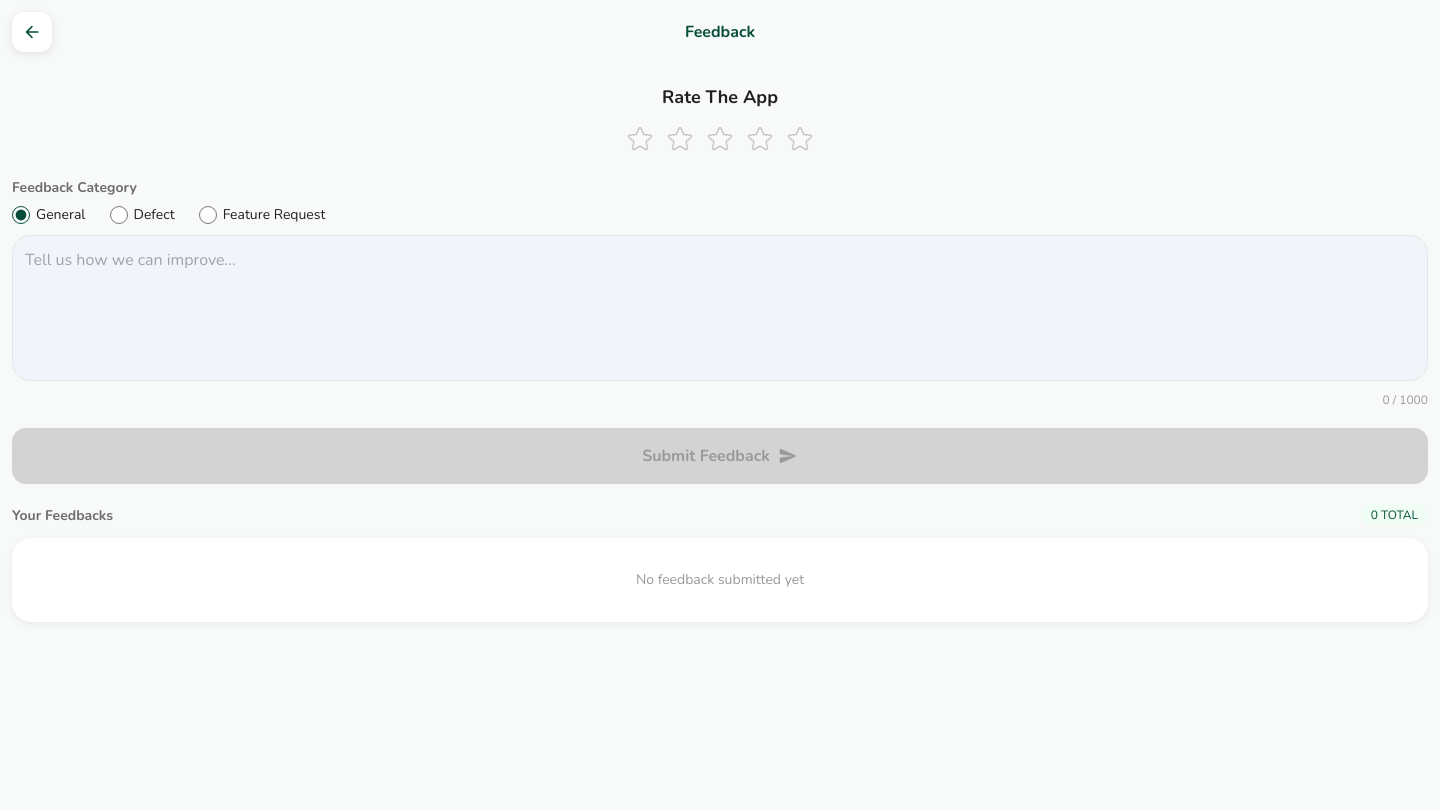
it: Feedback — successful submit › shows a success snackbar, clears the form, and reloads history
Click the radio button labelled "Feature Request".
click(208, 214)  # box [199,206,217,224]
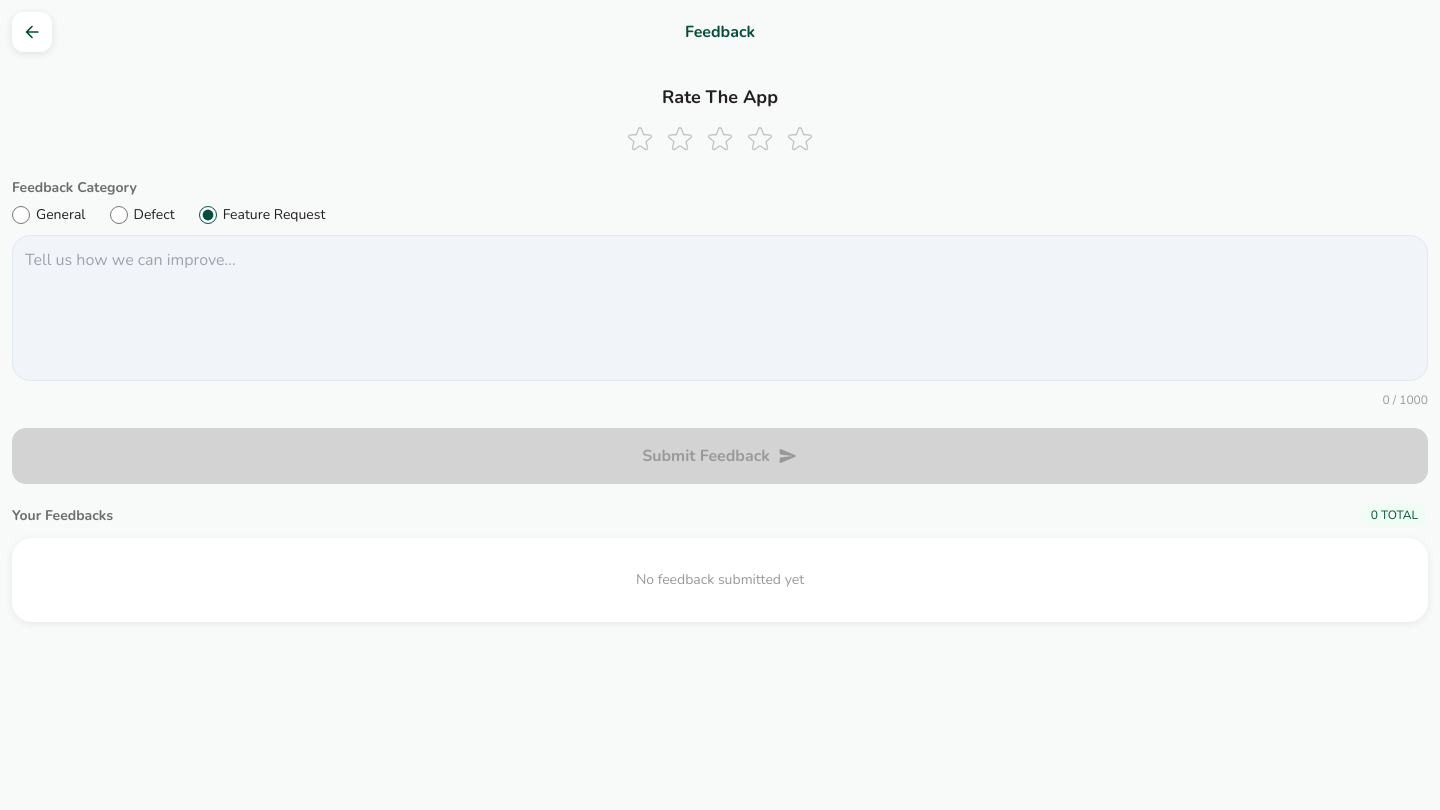
Type "Loved it" into the text box with placeholder "Tell us how we can improve...".
click(720, 308); type("Loved it")  # box [12,235,1428,381]
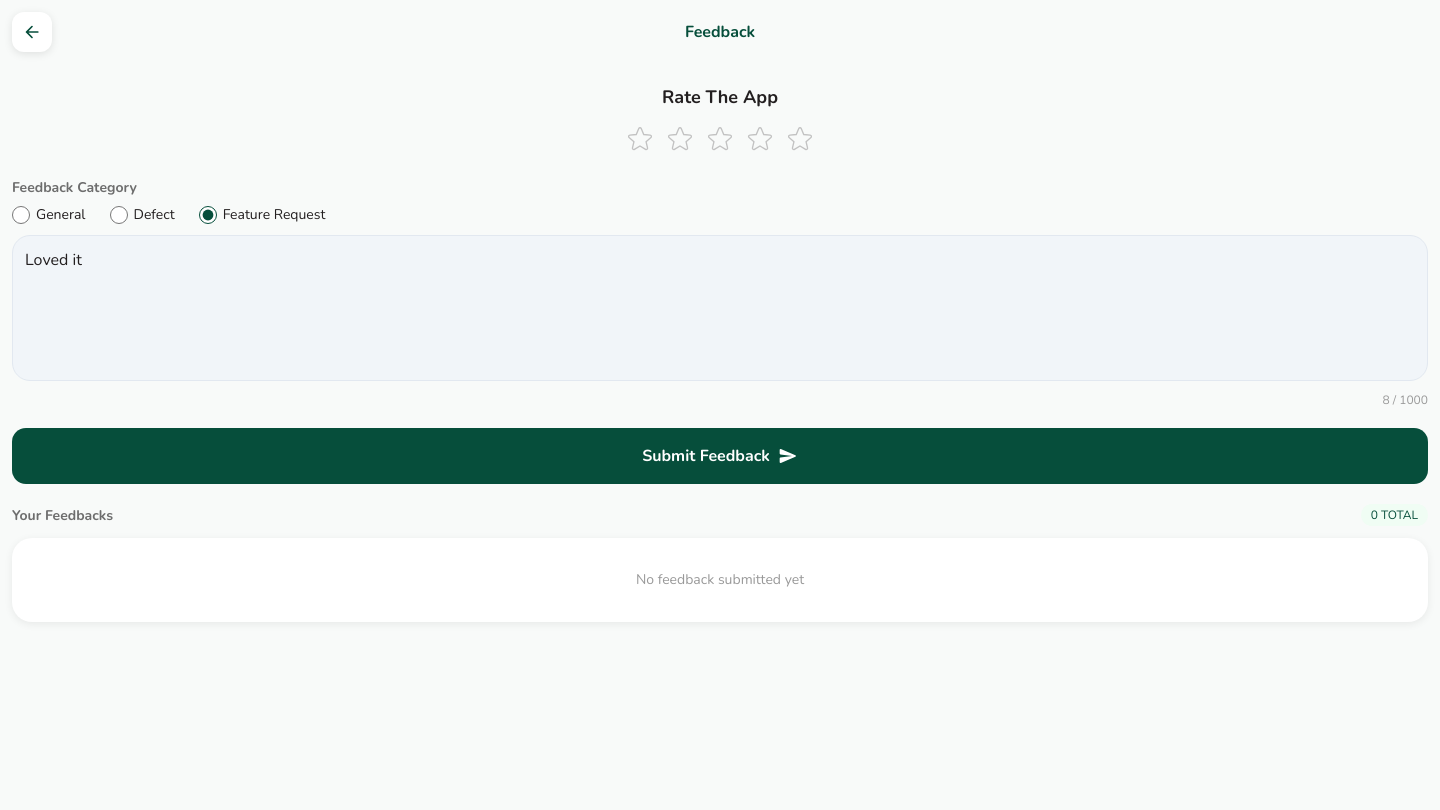
Click the button named "5 star".
click(800, 139)  # box [782,121,818,157]
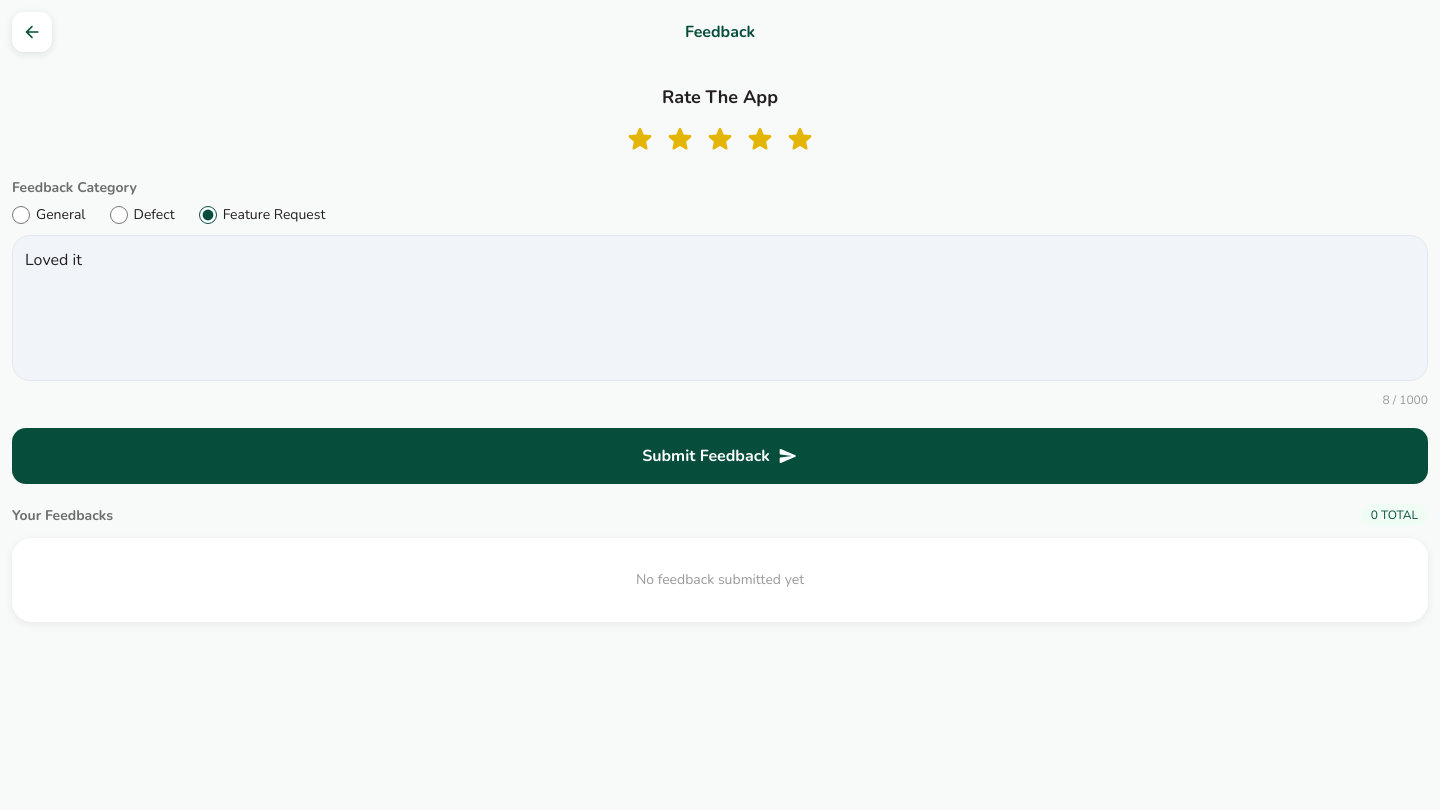
Click the button "Submit Feedback".
click(720, 456)  # box [12,428,1428,484]
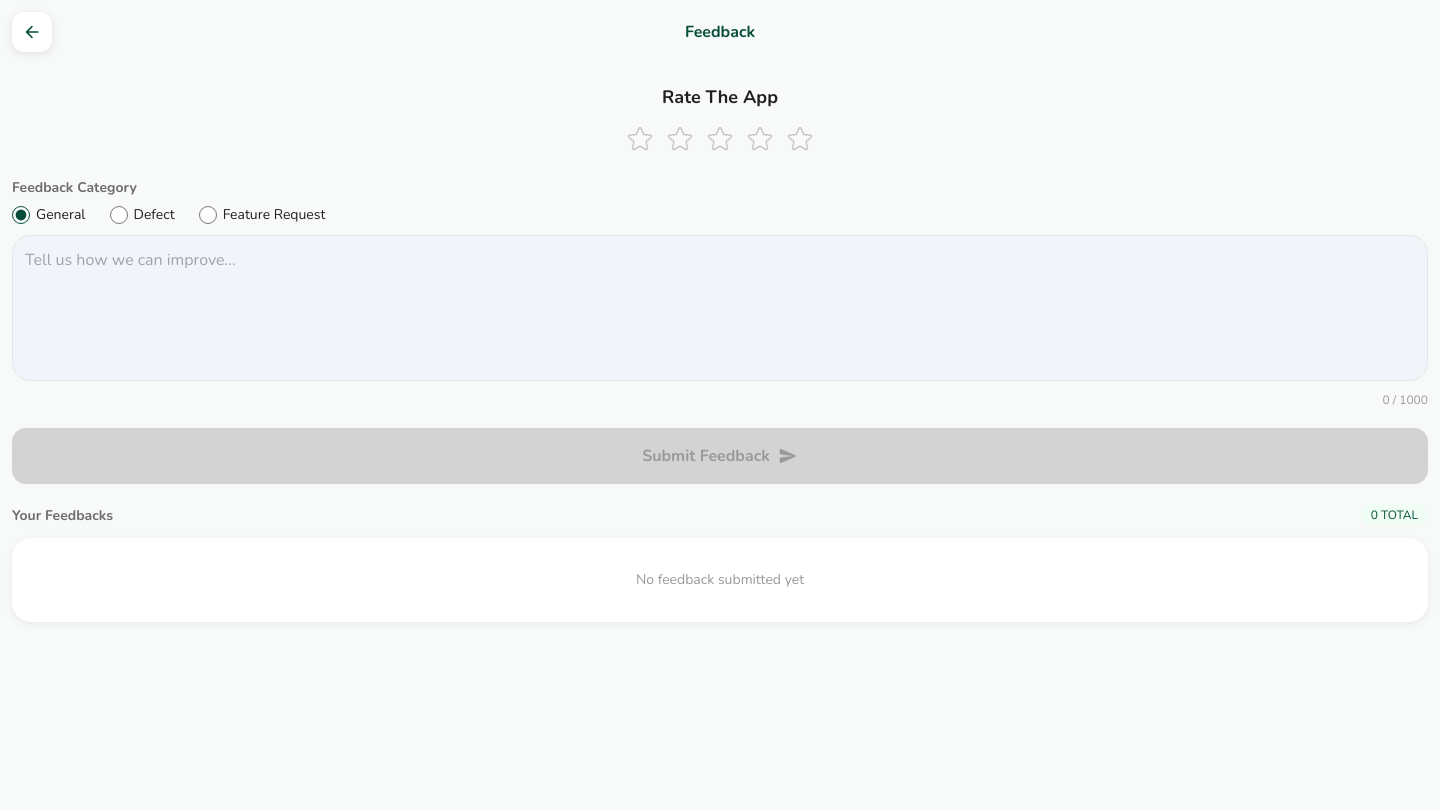
Check: the text box with placeholder "Tell us how we can improve..." is empty, box [12,235,1428,381]
Check: the radio button labelled "General" is checked, box [12,206,30,224]
